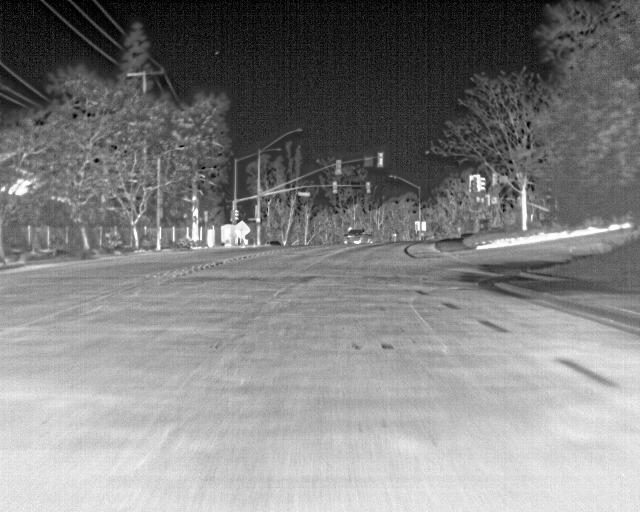car: (343, 229, 374, 244), (265, 241, 281, 246)
light: (479, 177, 486, 190), (377, 153, 383, 167), (492, 173, 498, 186), (471, 180, 477, 193), (336, 160, 341, 174), (332, 181, 337, 194), (366, 181, 371, 193), (235, 210, 240, 220), (204, 211, 208, 222)
sign: (235, 221, 251, 238), (415, 221, 426, 231), (364, 156, 373, 167), (298, 192, 310, 196)
